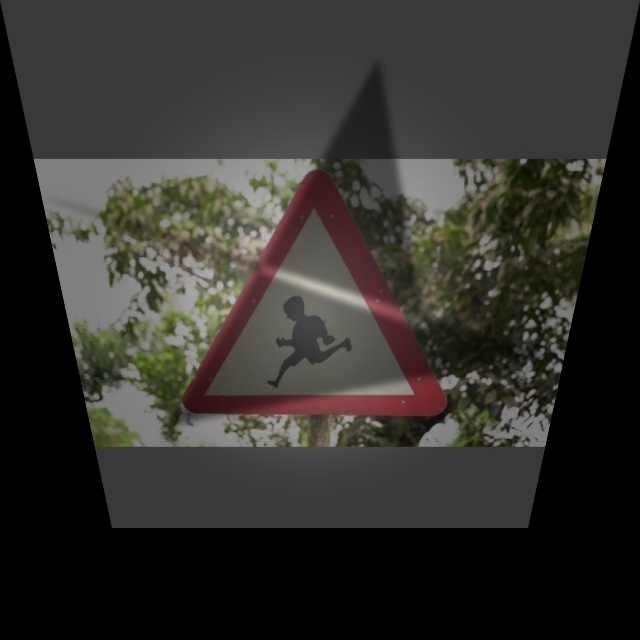School_Ahead: (166, 173, 469, 415)
